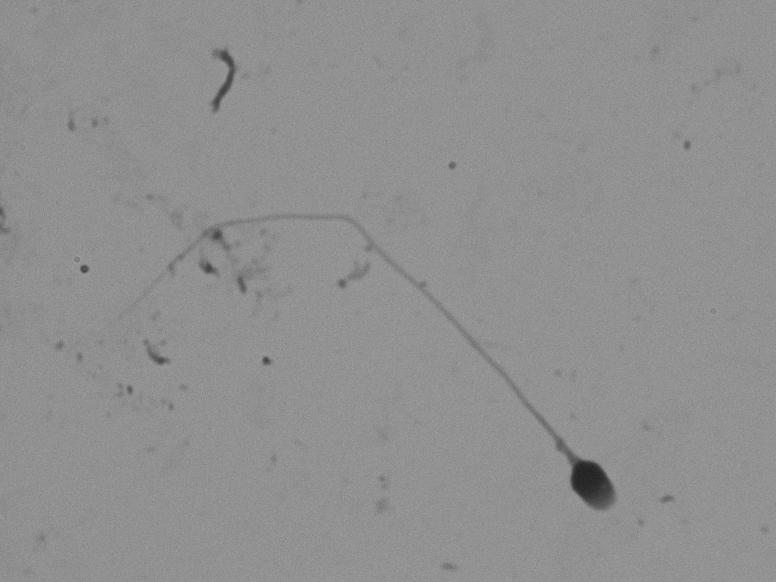Normal: (82, 165, 690, 535)
